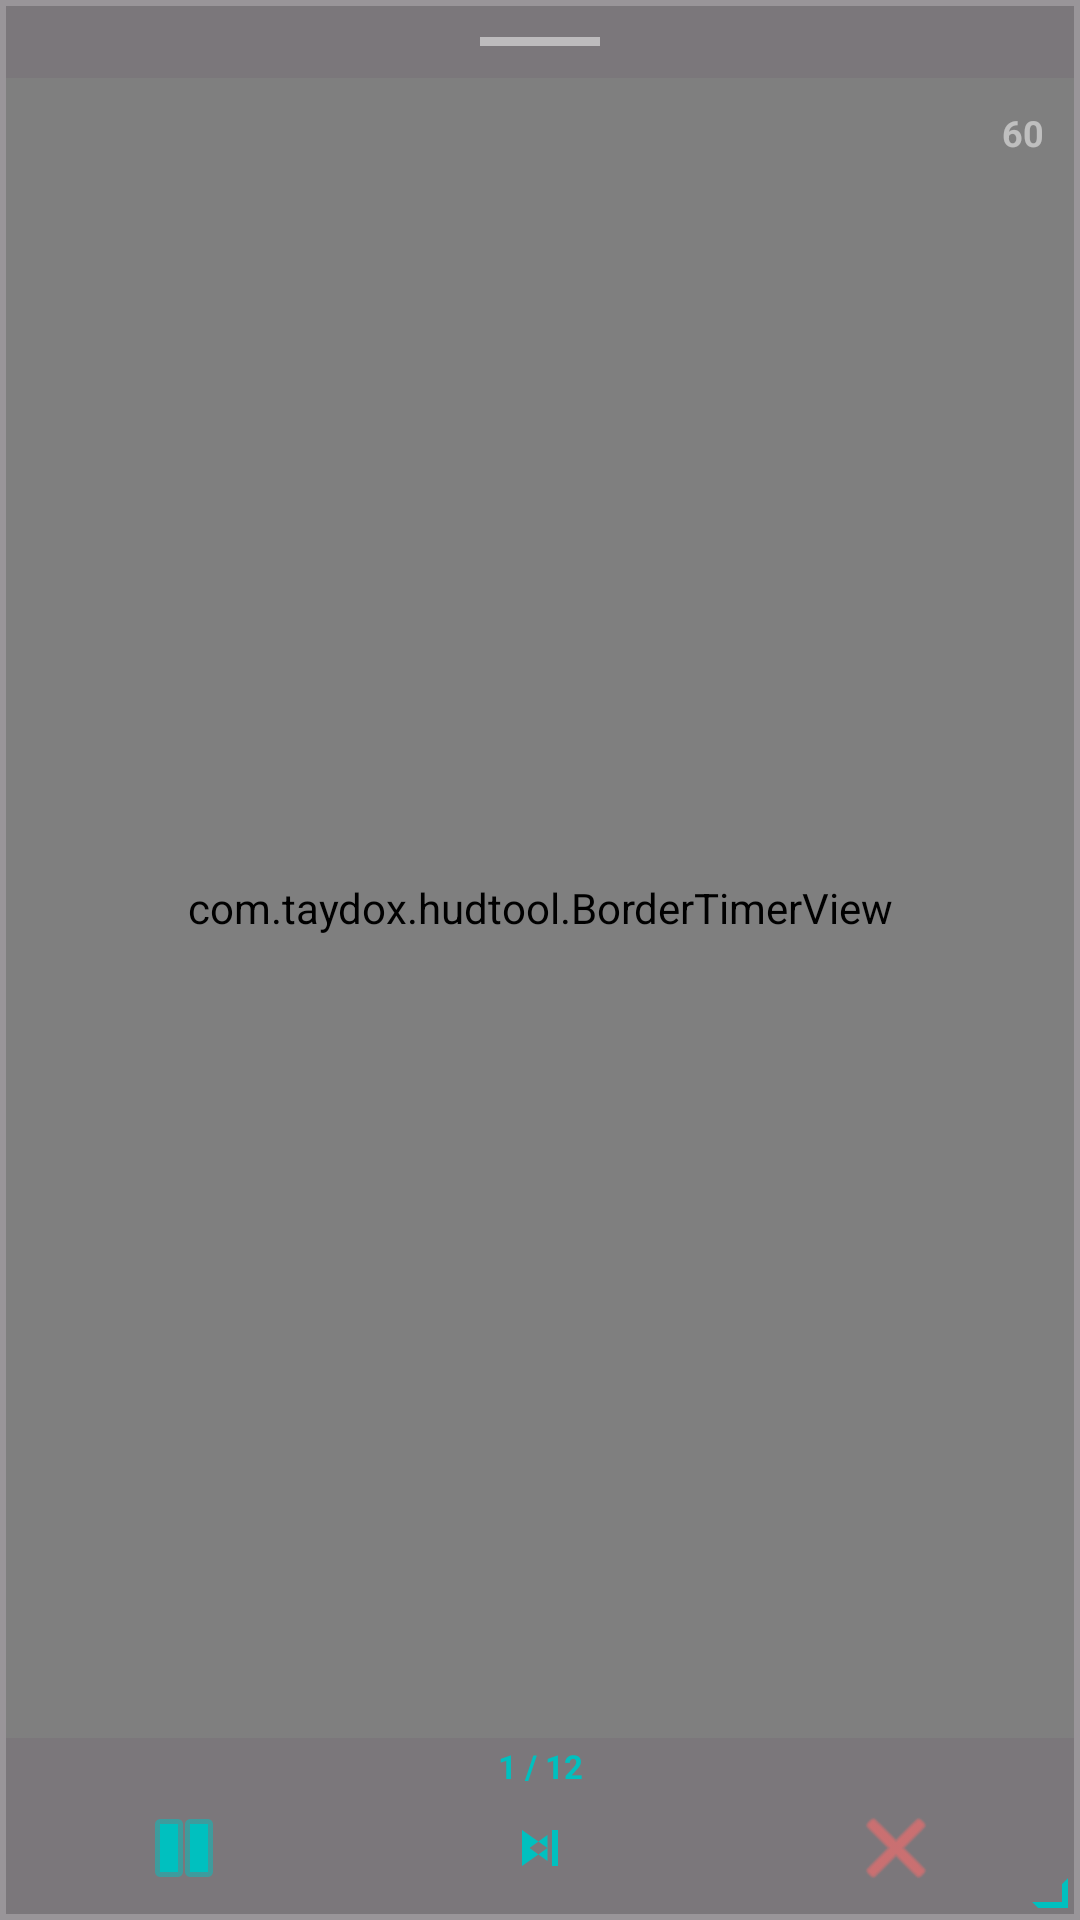

Point at icon controls on the screen. Image size 1080*1920, points as (x,y).
close clear cancel: (896,1848)
pause: (184,1848)
skip: (540,1848)
